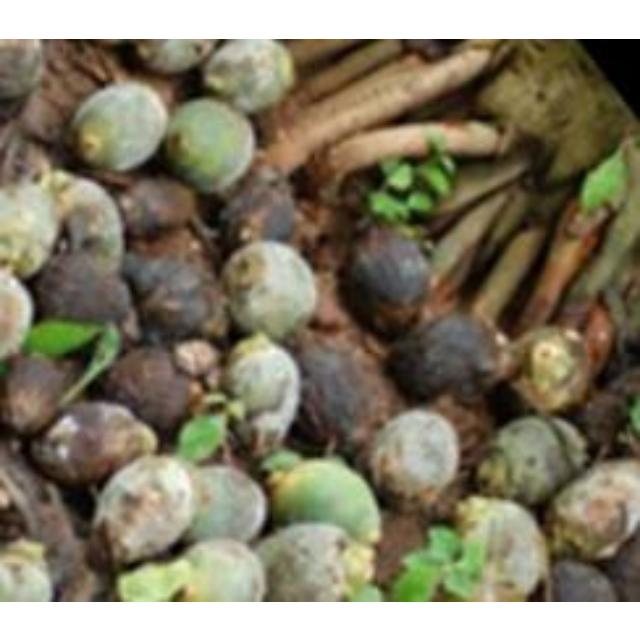damaged: (289, 332, 393, 453), (90, 453, 198, 569), (340, 217, 442, 336), (389, 312, 507, 406), (448, 496, 546, 602), (268, 456, 384, 544), (367, 407, 463, 511), (546, 459, 640, 561), (125, 252, 229, 344), (222, 238, 316, 338), (102, 344, 202, 436), (70, 80, 170, 172), (33, 248, 137, 336), (162, 97, 256, 193), (180, 464, 270, 546), (203, 38, 294, 114), (220, 168, 300, 250), (1, 353, 79, 437), (119, 174, 199, 242)
